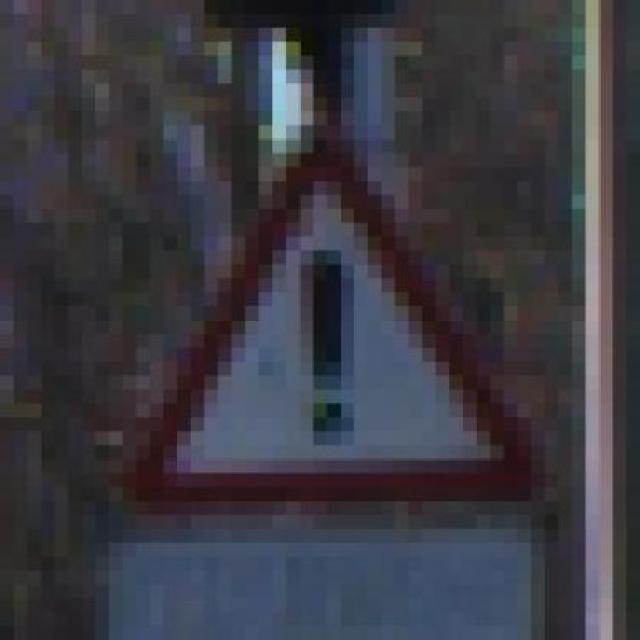Attention Please-: (96, 126, 558, 514)
